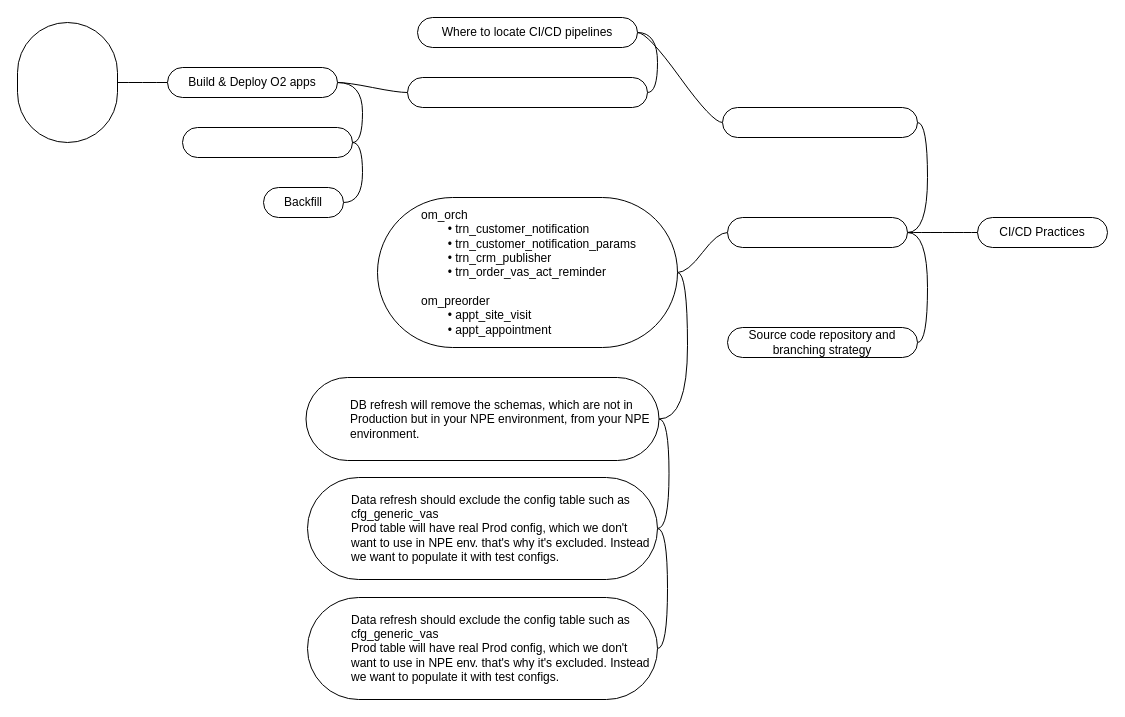
Image size: 1125x717. Some labels were removed from this diagram. Here are the shapes that lost their labels. From the top down, the box of each, then its label:
(16, 22, 118, 142): COMMON OM EO PO NPM TC PE TC UI
(406, 76, 648, 108): What does pipeline do for O2 project
(182, 126, 352, 158): Log level house keeping
(722, 106, 918, 138): Environments details (Prod and non-prod)
(726, 216, 908, 248): Environment backfill and DB refresh
